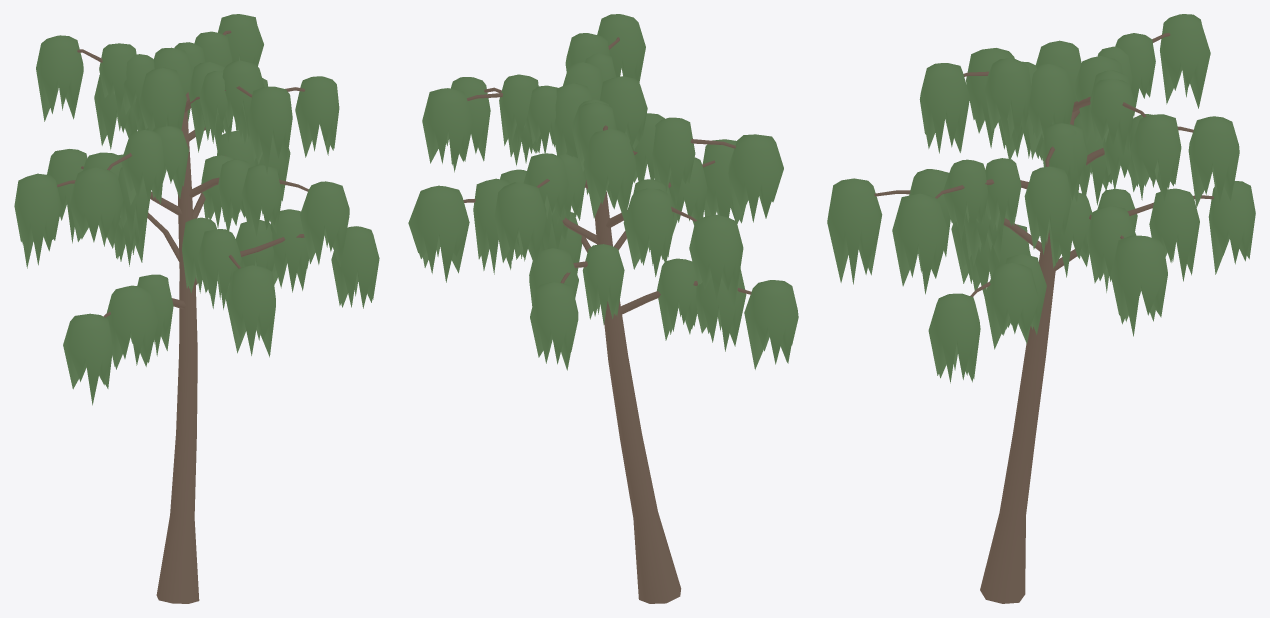
Rendered from Blender_Casuarina_1.glb.
The picture shows the model from 3 angles, left to right: view 1: azimuth 30°, elevation 25°; view 2: azimuth 150°, elevation 25°; view 3: azimuth 270°, elevation 25°; orthographic projection. The views are drawn at different scales.
Visible parts, largest first — view 1: Blender_Casuarina_1; view 2: Blender_Casuarina_1; view 3: Blender_Casuarina_1.
Boxes of the visible parts, x1,y1,x2,y2 form: Blender_Casuarina_1: [14, 14, 379, 603]; Blender_Casuarina_1: [408, 14, 798, 603]; Blender_Casuarina_1: [827, 14, 1255, 603].
Size of the model in its own units: 12.76 by 21.1 by 14.33.
